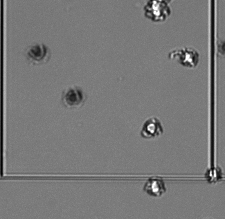Dead Cell: (63, 85, 83, 106), (27, 43, 48, 60)
Living Cell: (141, 117, 161, 137), (146, 176, 166, 196), (148, 1, 169, 20), (180, 49, 198, 66)
